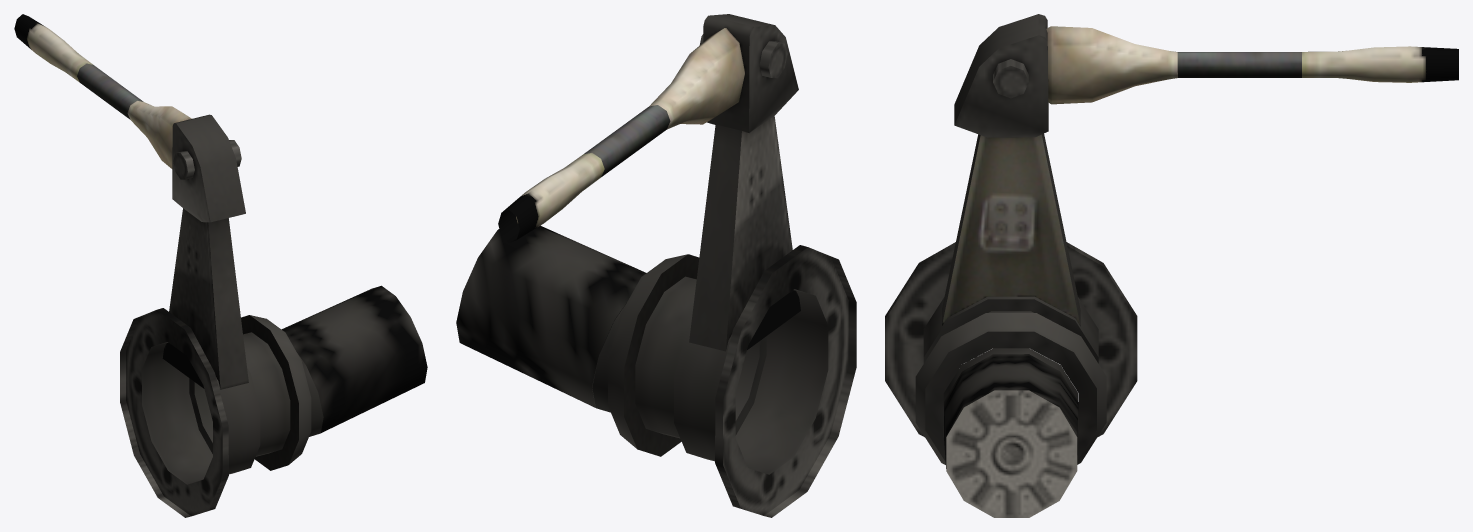
File: left_axis.dae
3 views of the same model, side by side, from view 1: azimuth 30°, elevation 25°; view 2: azimuth 150°, elevation 25°; view 3: azimuth 270°, elevation 25° (orthographic). The views are drawn at different scales.
Visible parts, largest first — view 1: suspension_axel_L, suspension_rod_L; view 2: suspension_axel_L, suspension_rod_L; view 3: suspension_axel_L, suspension_rod_L.
Boxes of the visible parts, x1=… form: suspension_axel_L: x1=120, y1=208, x2=427, y2=517; suspension_rod_L: x1=14, y1=14, x2=245, y2=222; suspension_axel_L: x1=456, y1=116, x2=856, y2=517; suspension_rod_L: x1=498, y1=14, x2=798, y2=242; suspension_axel_L: x1=885, y1=133, x2=1137, y2=517; suspension_rod_L: x1=954, y1=14, x2=1458, y2=137.
Bounding box in the file's own units: 0.2707 × 0.4622 × 0.4059.
Materials: 1 (1 with a texture image).
